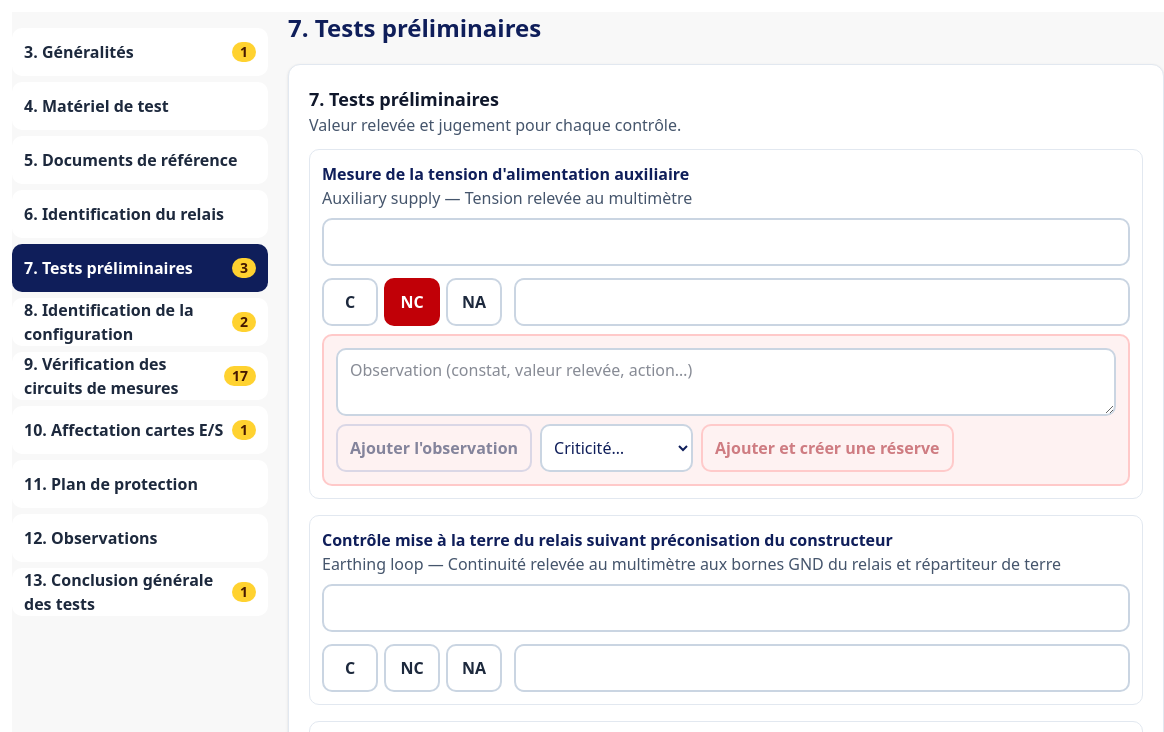
Test: NcPanel › ajoute une observation liée, et une réserve en un geste
This screenshot has width=1164, height=732.
Step 1. Type "110 V au lieu de 125 V" into the text box named "Observation pour Mesure de la tension" → (726, 382), box [336,348,1116,416]
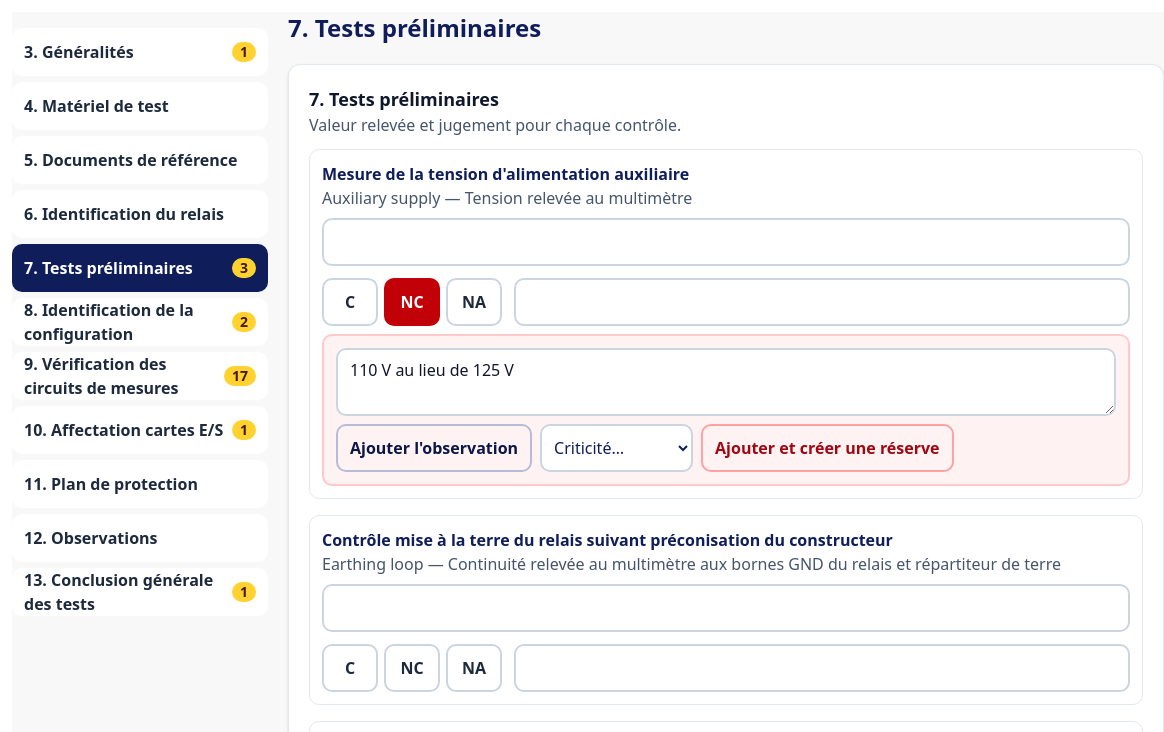
Step 2. Click the button "Ajouter et créer une réserve" → (827, 448), box [701,424,954,472]
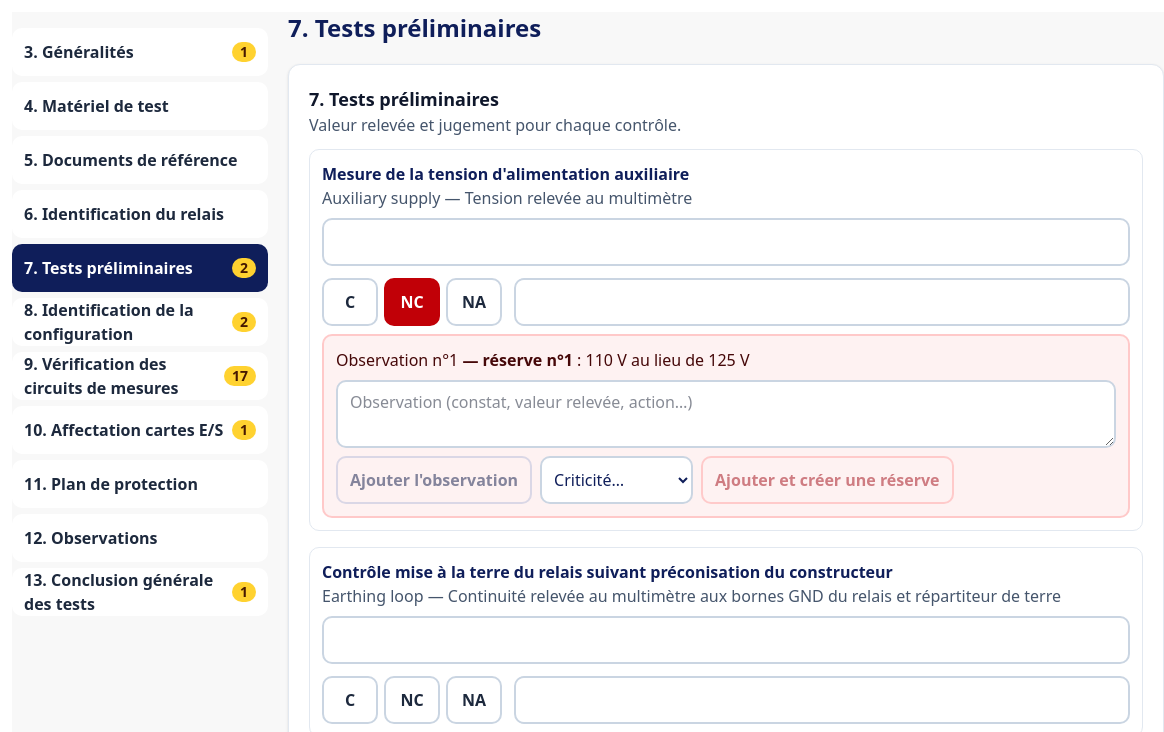
Expected: the text "— réserve n°1" is shown, [458,349,573,371]
